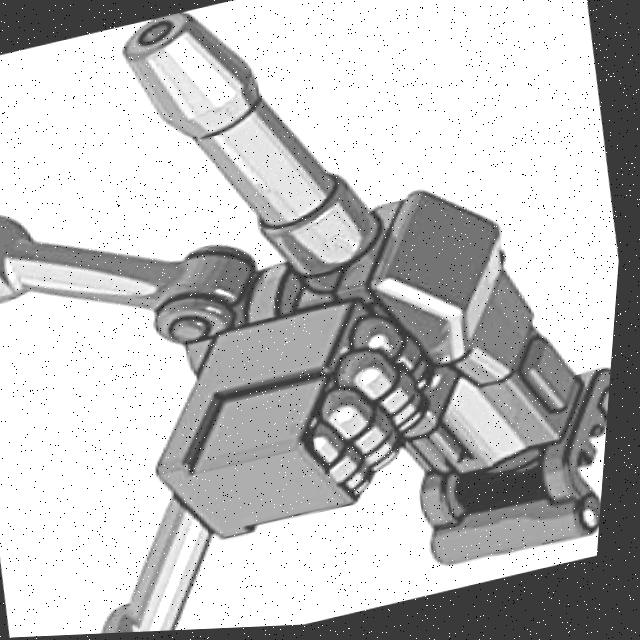grenade: (330, 340, 445, 454), (308, 378, 416, 492), (347, 307, 450, 411), (306, 414, 387, 513)
rocket: (0, 0, 640, 640)
